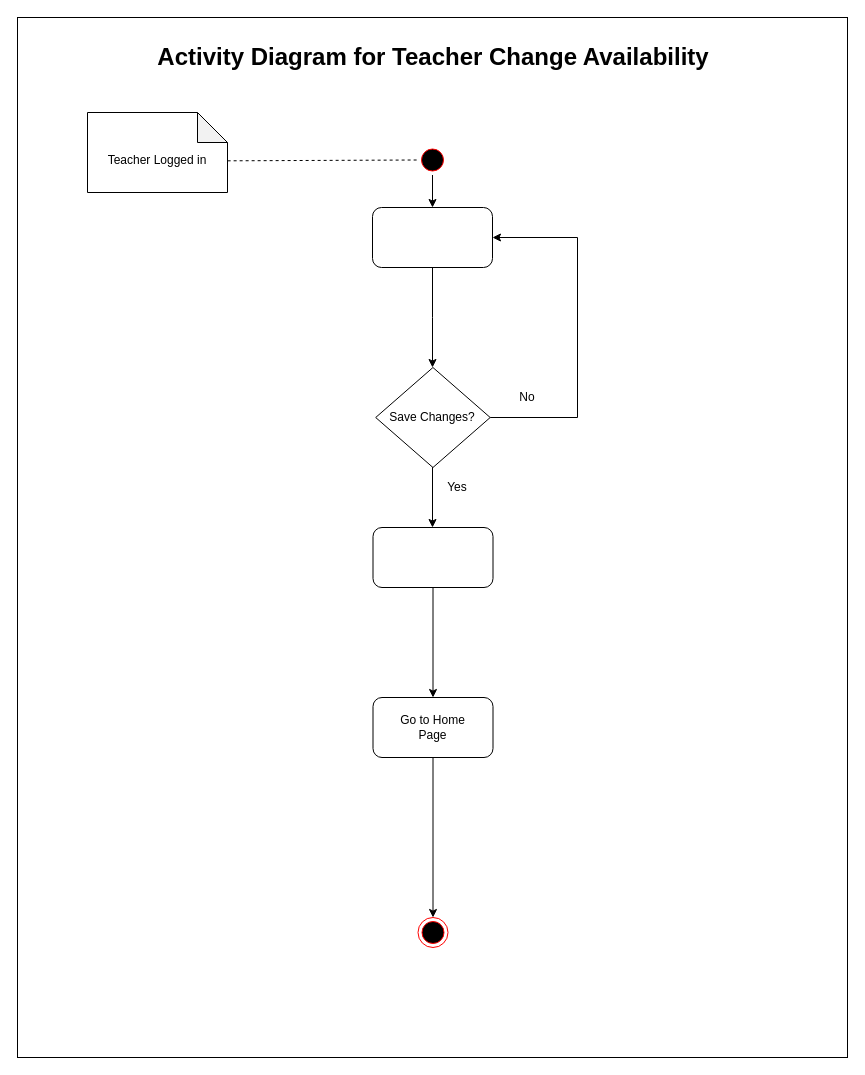
This 865x1075 diagram has some shape labels left out. Each missing label, with the box of its shape:
Change Availability: (372, 206, 492, 268)
Update Availability: (372, 526, 493, 588)
